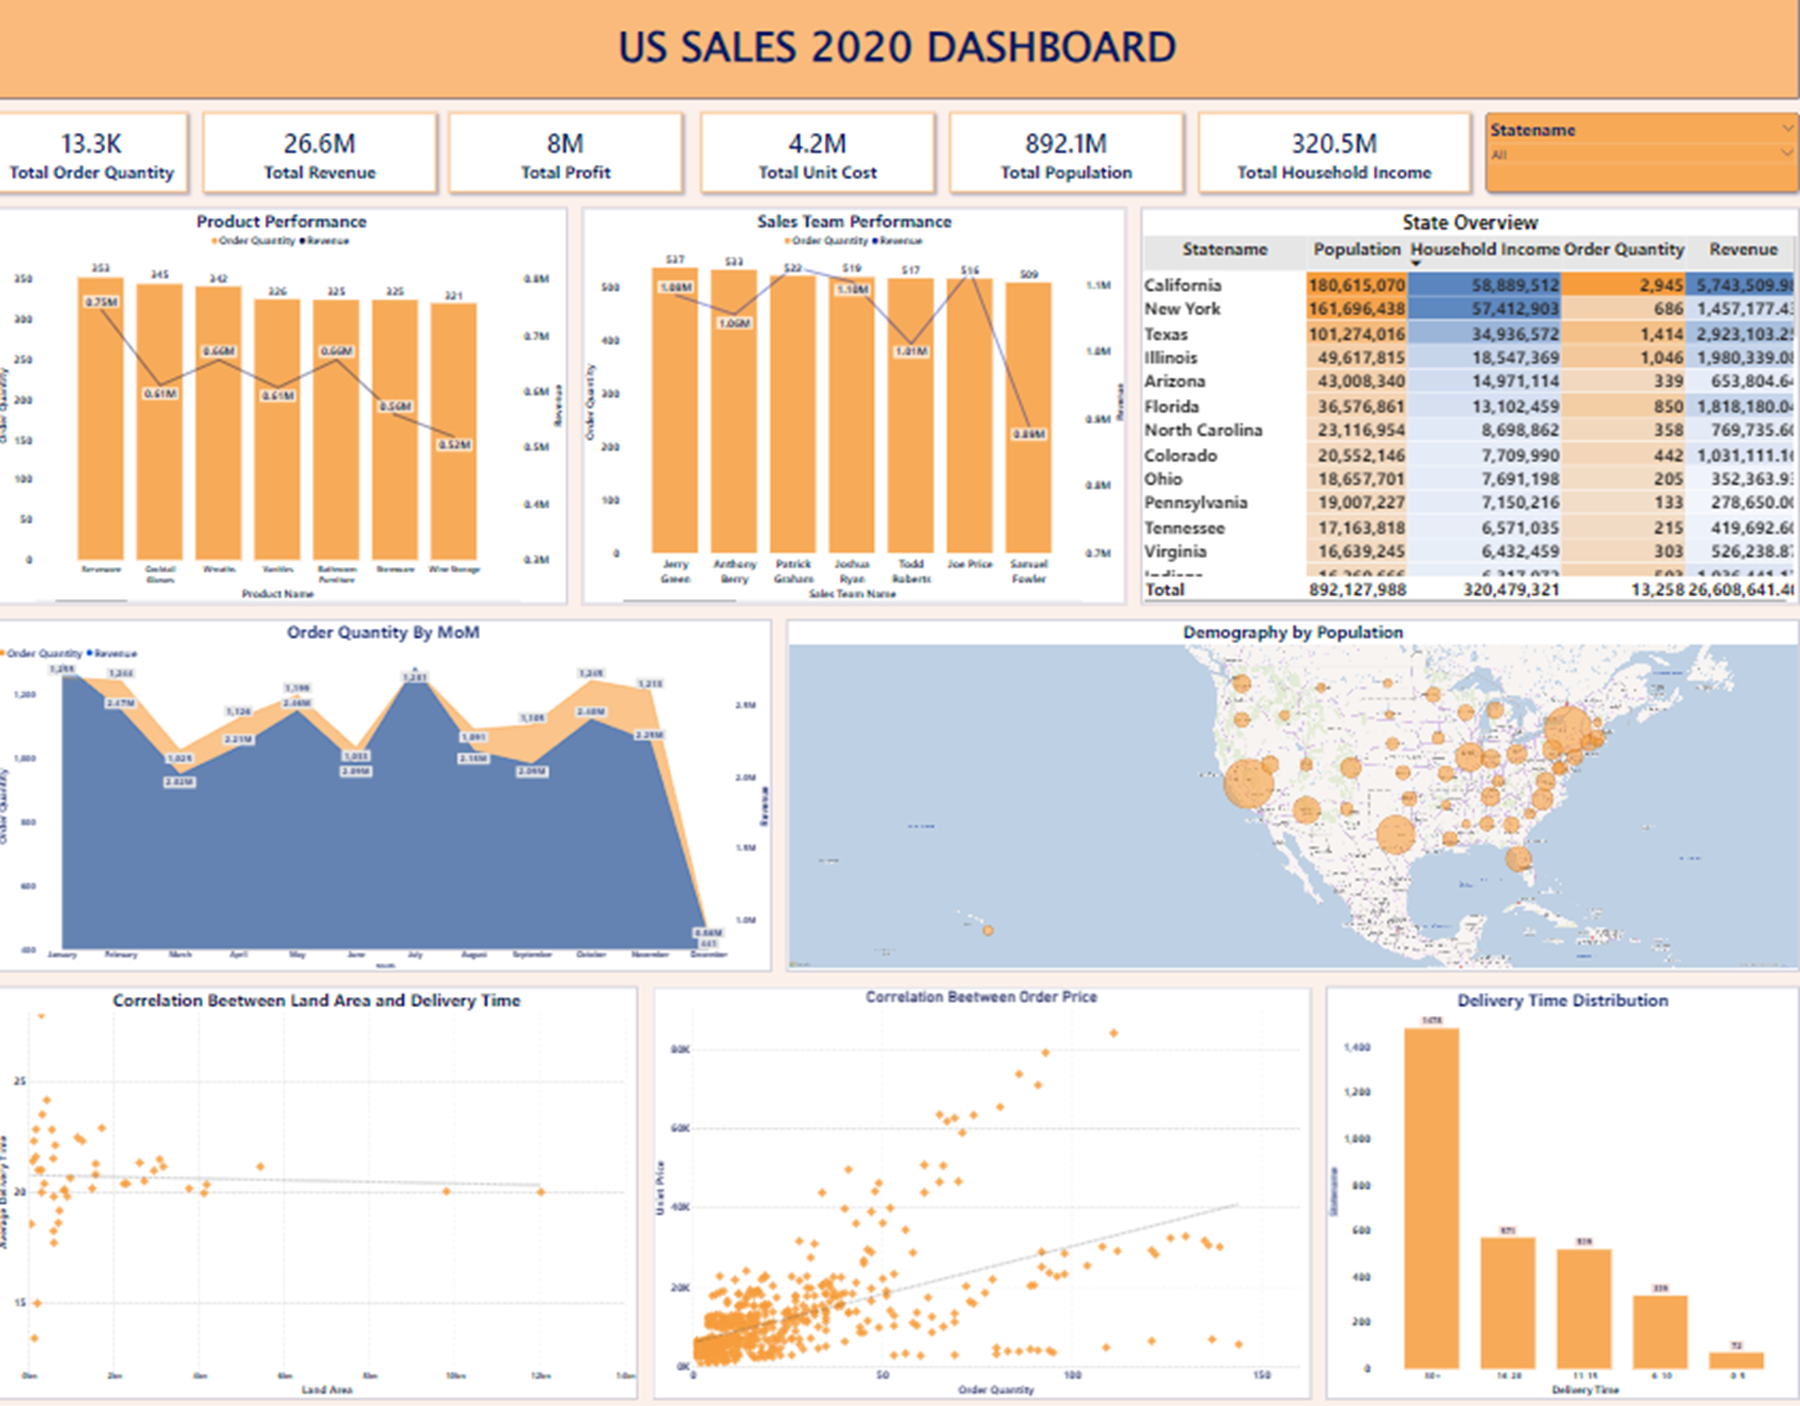

The page's visual inventory and layout, read from the dashboard file:
{"tool":"powerbi","page":{"name":"Page 1","canvas":[5650,4425],"ordinal":0},"visuals":[{"type":"card","fields":{"Values":["Sum(US_SALES_2020.Orderquantity)"]},"box":[0,360,600,250],"z":0},{"type":"textbox","box":[0,0,5650,320],"z":1000},{"type":"map","title":"Demography by Population","fields":{"Category":["US_SALES_2020.Statename"],"Size":["Sum(US_SALES_2020.Population)"]},"box":[2480,1950,3170,1100],"z":2000},{"type":"lineStackedColumnComboChart","title":"Sales Team Performance","fields":{"Category":["US_SALES_2020.SalesteamName"],"Y":["Sum(US_SALES_2020.Orderquantity)"],"Y2":["Sum(US_SALES_2020.Revenue)"]},"box":[1840,660,1700,1240],"z":3000},{"type":"card","fields":{"Values":["Sum(US_SALES_2020.Revenue)"]},"box":[650,360,730,250],"z":4000},{"type":"card","fields":{"Values":["Sum(US_SALES_2020.Profit)"]},"box":[1420,360,730,250],"z":5000},{"type":"lineStackedColumnComboChart","title":"Product Performance","fields":{"Category":["US_SALES_2020.Productname"],"Y":["Sum(US_SALES_2020.Orderquantity)"],"Y2":["Sum(US_SALES_2020.Revenue)"]},"box":[0,660,1790,1240],"z":6000},{"type":"slicer","fields":{"Values":["US_SALES_2020.Statename"]},"box":[4670,360,980,250],"z":7000},{"type":"lineChart","title":"Order Quantity By MoM","fields":{"Category":["US_SALES_2020.Orderdate.Variation.Date Hierarchy.Month"],"Y":["Sum(US_SALES_2020.Orderquantity)"],"Y2":["Sum(US_SALES_2020.Revenue)"]},"box":[0,1950,2430,1100],"z":8000},{"type":"card","fields":{"Values":["Sum(US_SALES_2020.UnitCost)"]},"box":[2210,360,730,250],"z":9000},{"type":"clusteredColumnChart","title":"Delivery Time Distribution","fields":{"Category":["US_SALES_2020.Delivery Time Bins"],"Y":["CountNonNull(US_SALES_2020.Statename)"]},"box":[4170,3100,1480,1290],"z":10000},{"type":"card","fields":{"Values":["Sum(US_SALES_2020.Population)"]},"box":[2990,360,730,250],"z":11000},{"type":"card","fields":{"Values":["Sum(US_SALES_2020.Householdincome)"]},"box":[3770,360,850,250],"z":12000},{"type":"scatterChart","title":"Correlation Beetween Land Area and Delivery Time","fields":{"Y":["Avg(US_SALES_2020.Delivery_Time)"],"X":["US_SALES_2020.LandArea"]},"box":[0,3100,2010,1290],"z":13000},{"type":"scatterChart","title":"Correlation Beetween Order Price","fields":{"X":["Sum(US_SALES_2020.Orderquantity)"],"Y":["Sum(US_SALES_2020.Unitprice)"],"Category":["US_SALES_2020.Unitprice"]},"box":[2060,3100,2060,1290],"z":14000},{"type":"tableEx","title":"State Overview","fields":{"Values":["US_SALES_2020.Statename","Sum(US_SALES_2020.Population)","Sum(US_SALES_2020.Householdincome)","Sum(US_SALES_2020.Orderquantity)","Sum(US_SALES_2020.Revenue)"]},"box":[3590,660,2060,1240],"z":15002}]}

Visuals, with their boxes in screenshot pixels (x1, y1, x2, y2), scaled from the page's 5650x4425 canvas onto the 1800x1406 screenshot:
card - Sum(US_SALES_2020.Orderquantity): <bbox>0, 114, 191, 194</bbox>
textbox: <bbox>0, 0, 1799, 102</bbox>
"Demography by Population" map: <bbox>790, 620, 1799, 969</bbox>
"Sales Team Performance" lineStackedColumnComboChart: <bbox>586, 210, 1128, 604</bbox>
card - Sum(US_SALES_2020.Revenue): <bbox>207, 114, 440, 194</bbox>
card - Sum(US_SALES_2020.Profit): <bbox>452, 114, 685, 194</bbox>
"Product Performance" lineStackedColumnComboChart: <bbox>0, 210, 570, 604</bbox>
slicer - US_SALES_2020.Statename: <bbox>1488, 114, 1799, 194</bbox>
"Order Quantity By MoM" lineChart: <bbox>0, 620, 774, 969</bbox>
card - Sum(US_SALES_2020.UnitCost): <bbox>704, 114, 937, 194</bbox>
"Delivery Time Distribution" clusteredColumnChart: <bbox>1328, 985, 1799, 1395</bbox>
card - Sum(US_SALES_2020.Population): <bbox>953, 114, 1185, 194</bbox>
card - Sum(US_SALES_2020.Householdincome): <bbox>1201, 114, 1472, 194</bbox>
"Correlation Beetween Land Area and Delivery Time" scatterChart: <bbox>0, 985, 640, 1395</bbox>
"Correlation Beetween Order Price" scatterChart: <bbox>656, 985, 1313, 1395</bbox>
"State Overview" tableEx: <bbox>1144, 210, 1799, 604</bbox>
